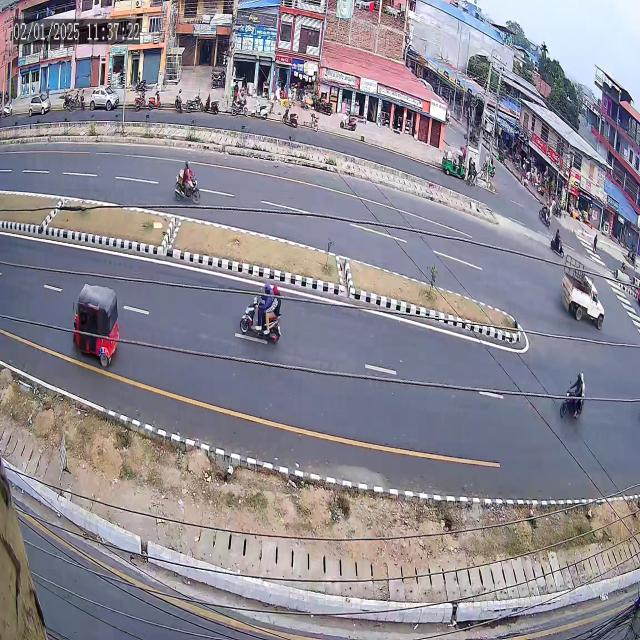auto: (61, 272, 129, 387)
car: (558, 256, 610, 327)
motorcycle: (232, 268, 287, 361), (558, 358, 592, 439), (168, 155, 205, 214), (548, 226, 567, 265)
